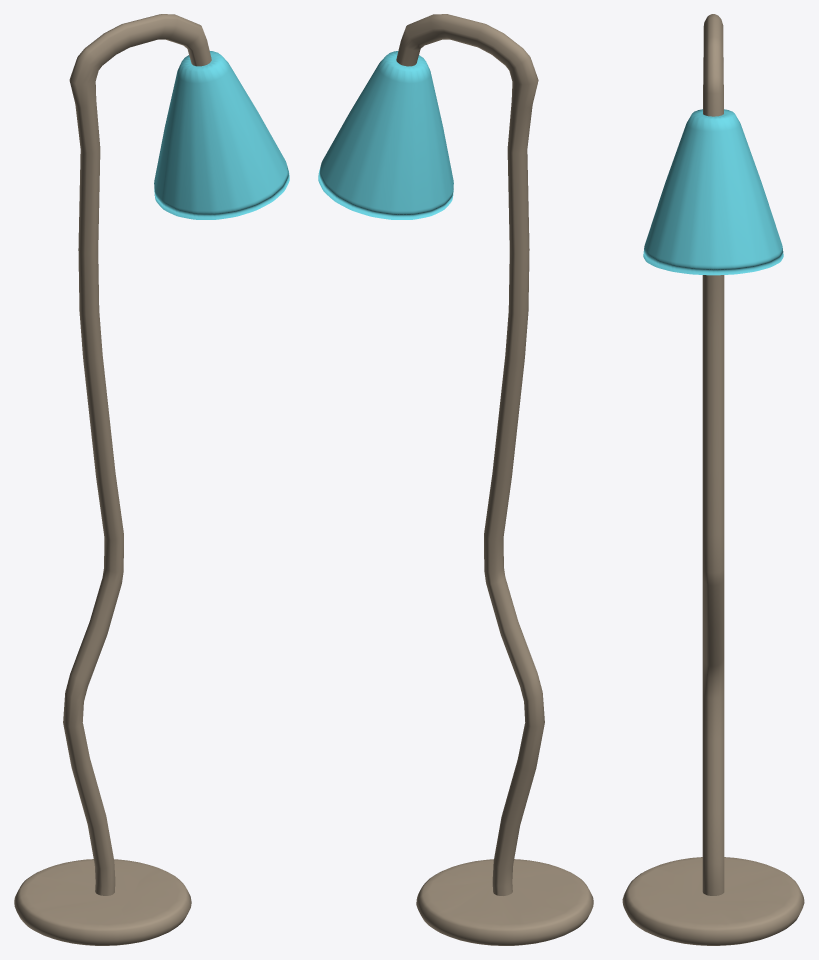
File: lamp done.fbx
3 views of the same model, side by side, from view 1: azimuth 30°, elevation 25°; view 2: azimuth 150°, elevation 25°; view 3: azimuth 270°, elevation 25° (orthographic). The views are drawn at different scales.
Parts seen in each view (by area): view 1: pCylinder10; view 2: pCylinder10; view 3: pCylinder10.
Part boxes in pixels (box(x1,y1,x2,y2)): pCylinder10: box(14, 14, 289, 945); pCylinder10: box(318, 14, 593, 945); pCylinder10: box(622, 14, 804, 945).
Size of the model in its own units: 0.964 by 3.19 by 0.582.
